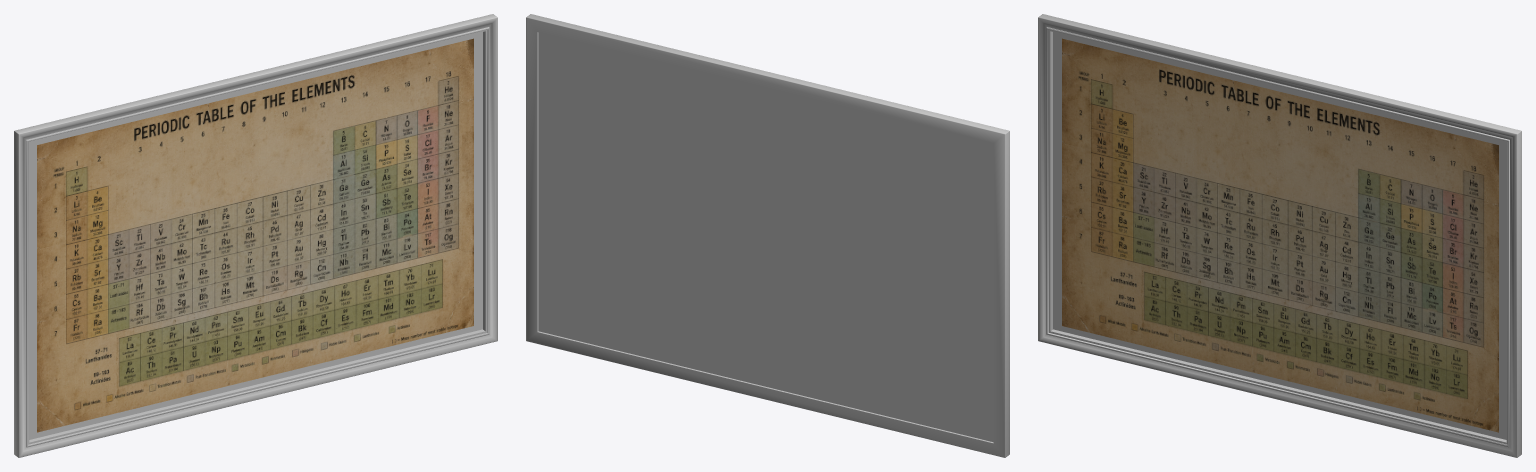
Rendered from BoardCh.fbx.
3 renders of one model, left to right at view 1: azimuth 30°, elevation 25°; view 2: azimuth 150°, elevation 25°; view 3: azimuth 330°, elevation 25°, orthographic.
Parts seen in each view (by area): view 1: TableCH, Frame, Cork; view 2: Cork, Frame; view 3: TableCH, Frame, Cork.
Part boxes in pixels (<box>): TableCH: <box>37,38,473,432</box>; Frame: <box>14,14,497,457</box>; Cork: <box>29,32,482,439</box>; Cork: <box>538,32,993,442</box>; Frame: <box>526,14,1009,457</box>; TableCH: <box>1062,38,1498,432</box>; Frame: <box>1038,14,1521,457</box>; Cork: <box>1053,32,1506,439</box>.
Size of the model in its own units: 201 by 130 by 3.52.
